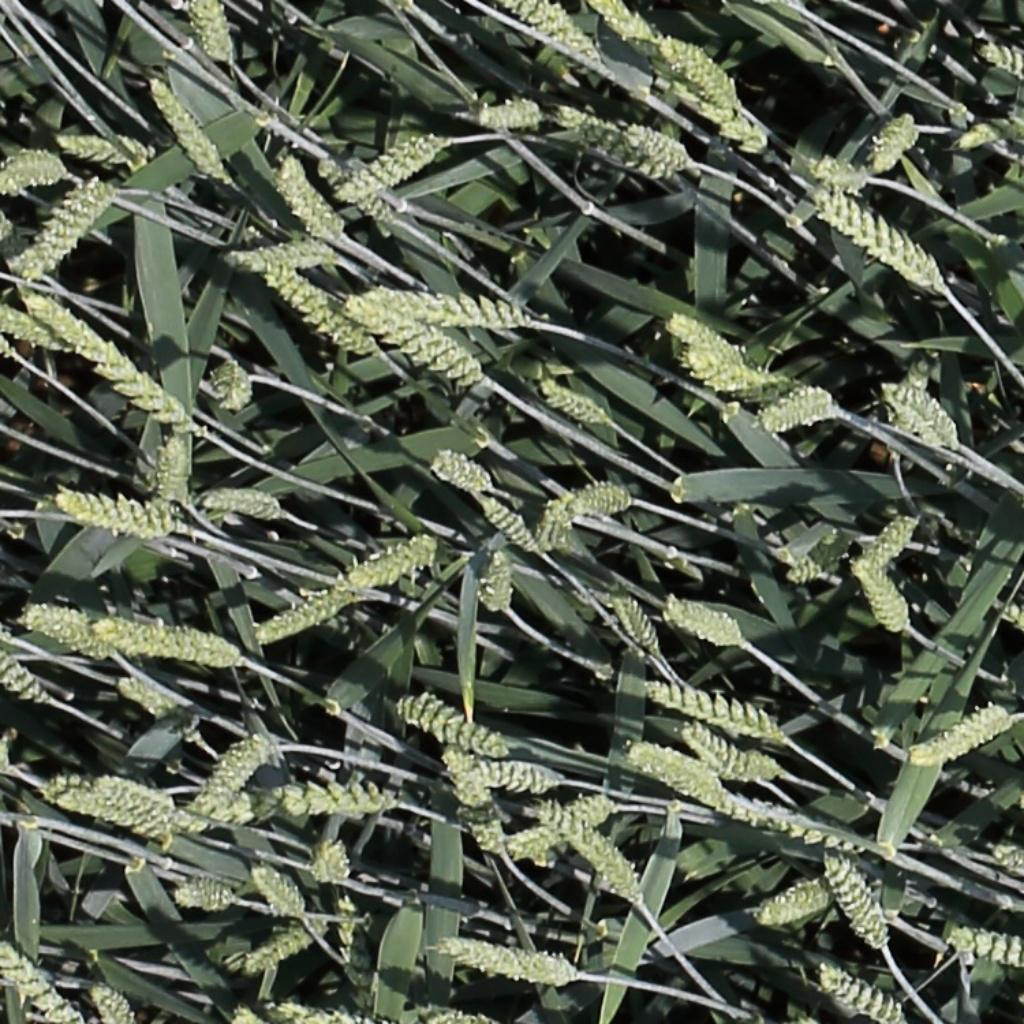0-0: (21, 292, 205, 436), (811, 188, 942, 283), (532, 799, 643, 901), (349, 296, 479, 382), (252, 260, 370, 354), (546, 101, 673, 183), (15, 174, 114, 278), (719, 792, 880, 853), (93, 608, 253, 669), (146, 78, 238, 184), (330, 130, 450, 210), (360, 280, 534, 333), (435, 739, 511, 859), (640, 684, 787, 744), (42, 770, 184, 832), (211, 780, 403, 824), (425, 933, 580, 987), (905, 702, 1017, 773), (675, 344, 806, 404), (93, 770, 219, 832), (0, 936, 82, 1024), (395, 690, 509, 753), (676, 78, 772, 152), (507, 794, 619, 857), (817, 860, 888, 955), (200, 733, 284, 813), (654, 34, 743, 109), (270, 151, 341, 244), (503, 0, 601, 66), (679, 724, 786, 782), (14, 599, 111, 662), (315, 154, 401, 225), (582, 1, 673, 68), (258, 588, 358, 647), (238, 915, 333, 977), (816, 962, 909, 1024), (630, 740, 728, 796), (341, 536, 439, 591), (51, 491, 170, 535), (849, 555, 910, 638), (755, 382, 842, 439), (879, 385, 959, 446), (603, 585, 663, 663), (457, 757, 569, 796), (620, 114, 695, 171), (942, 110, 1024, 161), (473, 494, 540, 555), (113, 678, 191, 729), (943, 922, 1024, 970), (865, 507, 923, 573), (662, 600, 742, 647), (224, 240, 344, 271), (753, 878, 832, 925), (463, 92, 550, 132), (246, 860, 306, 917), (185, 0, 234, 69), (0, 305, 70, 353), (537, 378, 608, 425), (664, 310, 744, 351), (865, 110, 917, 173), (0, 644, 51, 708), (55, 136, 162, 166), (0, 143, 66, 190), (166, 874, 239, 916), (196, 486, 287, 517), (427, 450, 491, 494), (265, 1000, 379, 1024), (567, 477, 634, 517), (533, 494, 574, 558), (157, 431, 192, 505), (212, 355, 252, 417), (480, 548, 515, 614), (305, 837, 353, 884), (88, 980, 136, 1024), (331, 896, 362, 962), (980, 42, 1024, 87), (413, 1001, 498, 1024), (805, 157, 866, 185), (785, 558, 833, 587), (991, 592, 1024, 633), (226, 998, 270, 1024), (991, 846, 1024, 875), (0, 334, 23, 364), (0, 209, 21, 241), (0, 173, 24, 198)
